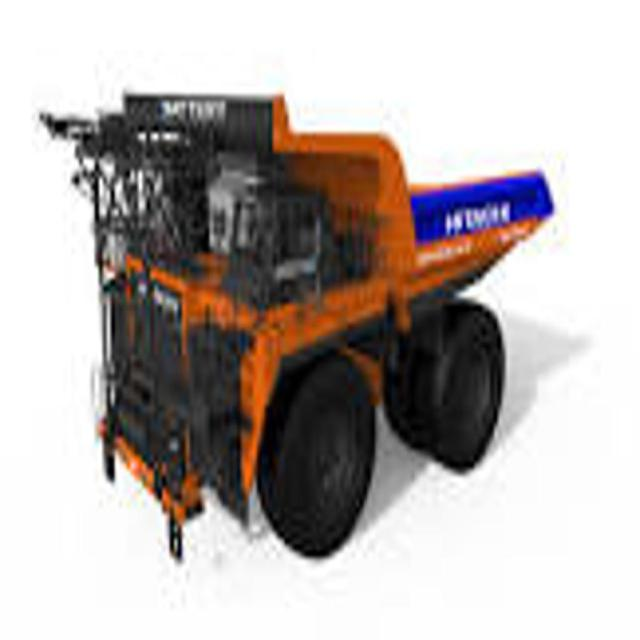dump_truck: (37, 82, 560, 573)
